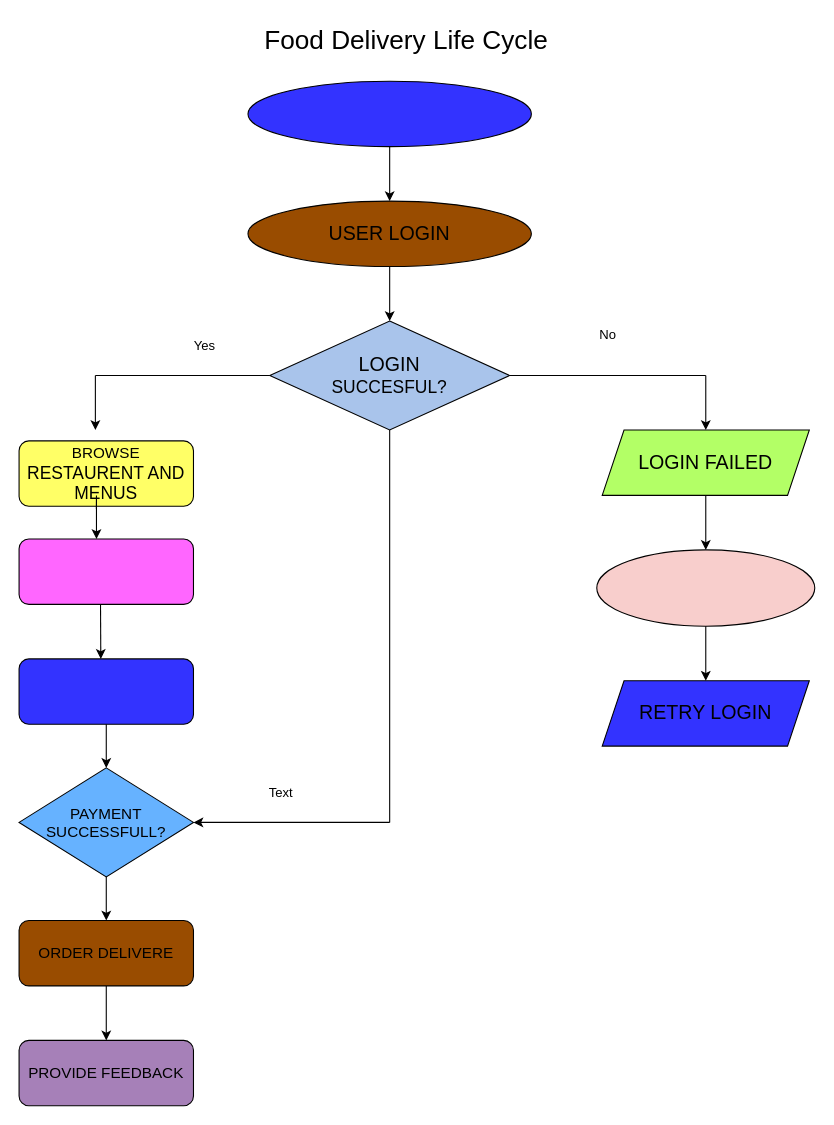
Image size: 834x1125. Some labels were removed from this diagram. Here are the shapes that lost their labels. From the top down, the centre of each, then its label:
the point at 389,113: USER REGISTRATION
the point at 105,571: SELECT FOOD ITEMS & ADD TO CART
the point at 705,587: SHOW ERROR MESSAGE
the point at 105,691: PLACE ORDER
